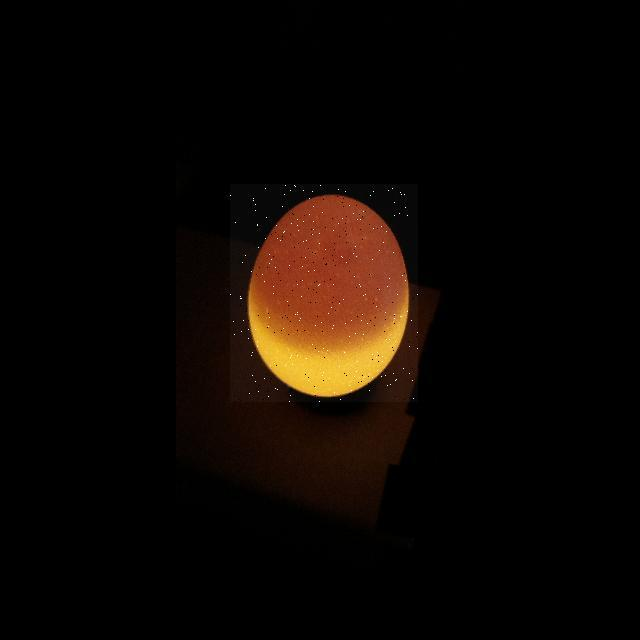Fertile: (230, 184, 418, 402)
